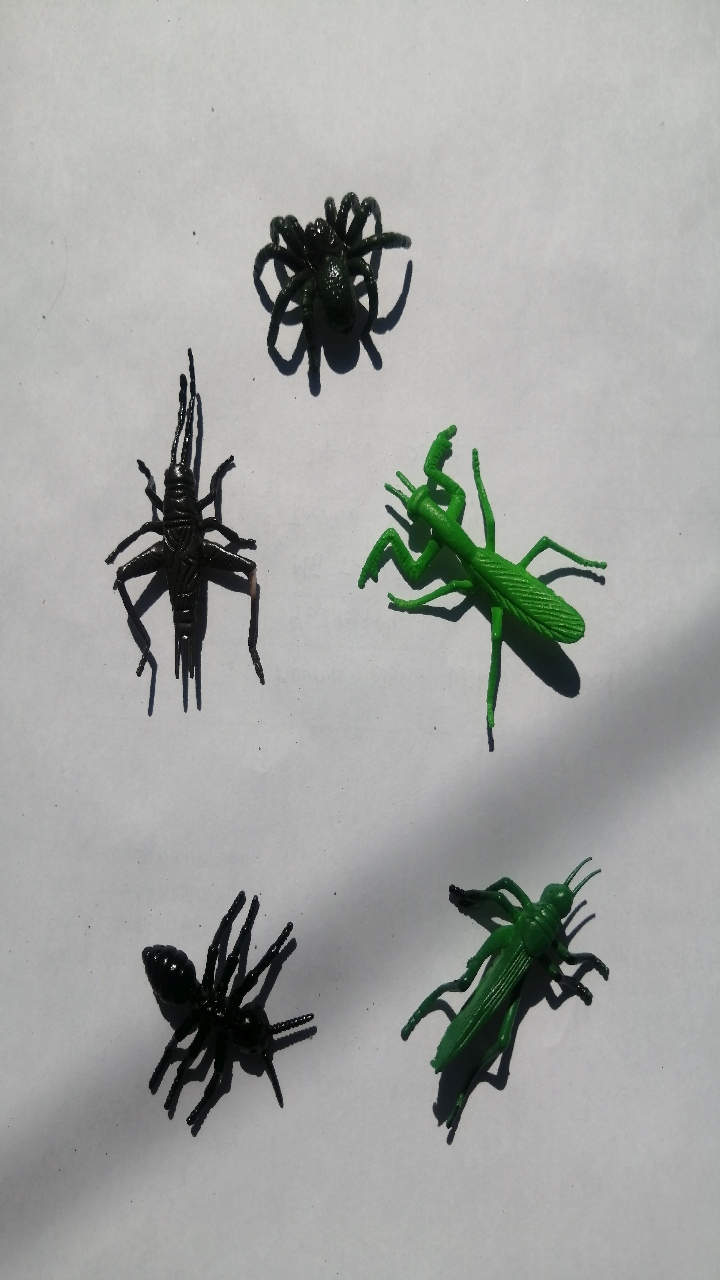intruso: (377, 812, 628, 1182), (351, 400, 617, 745), (83, 328, 288, 723), (101, 854, 343, 1143), (226, 155, 432, 395)
